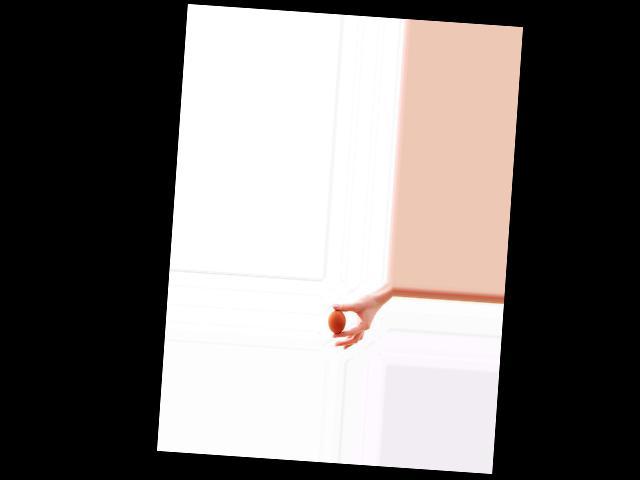egg: (327, 309, 345, 334)
